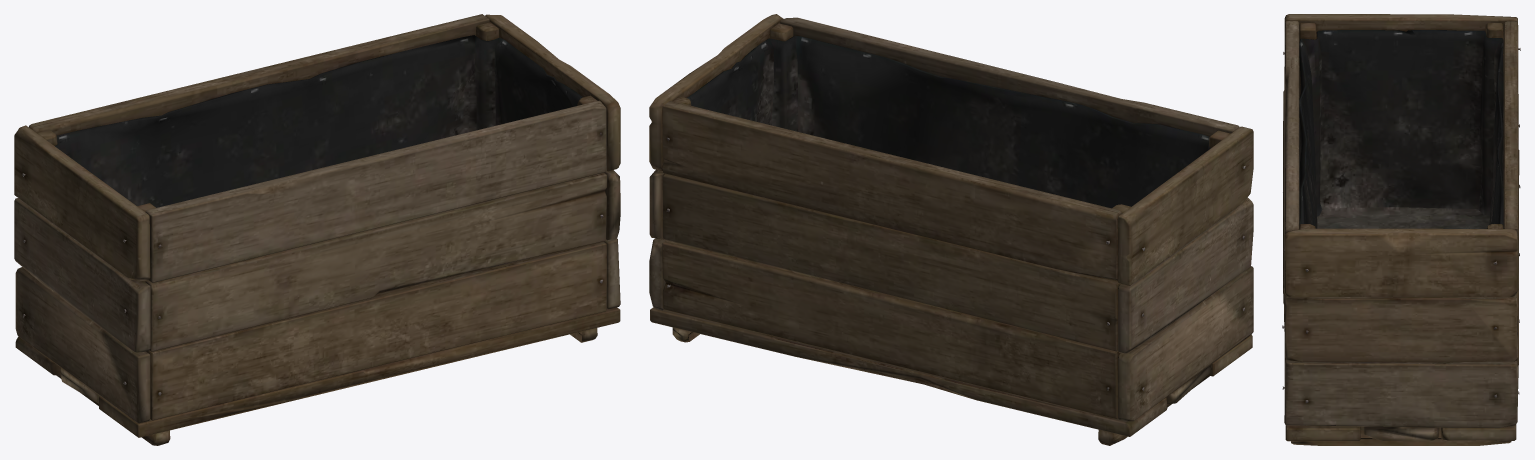
File: planter.glb
The picture shows the model from 3 angles, left to right: view 1: azimuth 30°, elevation 25°; view 2: azimuth 150°, elevation 25°; view 3: azimuth 270°, elevation 25°; orthographic projection. The views are drawn at different scales.
Visible parts, largest first — view 1: planter_box_01; view 2: planter_box_01; view 3: planter_box_01.
Boxes of the visible parts, x1,y1,x2,y2 form: planter_box_01: (14, 14, 620, 445); planter_box_01: (649, 14, 1253, 445); planter_box_01: (1282, 14, 1520, 445).
Bounding box in the file's own units: 0.9126 × 0.4249 × 0.4137.
1 material, 1 textured.
